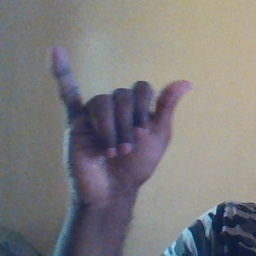J: (47, 43, 191, 186)
